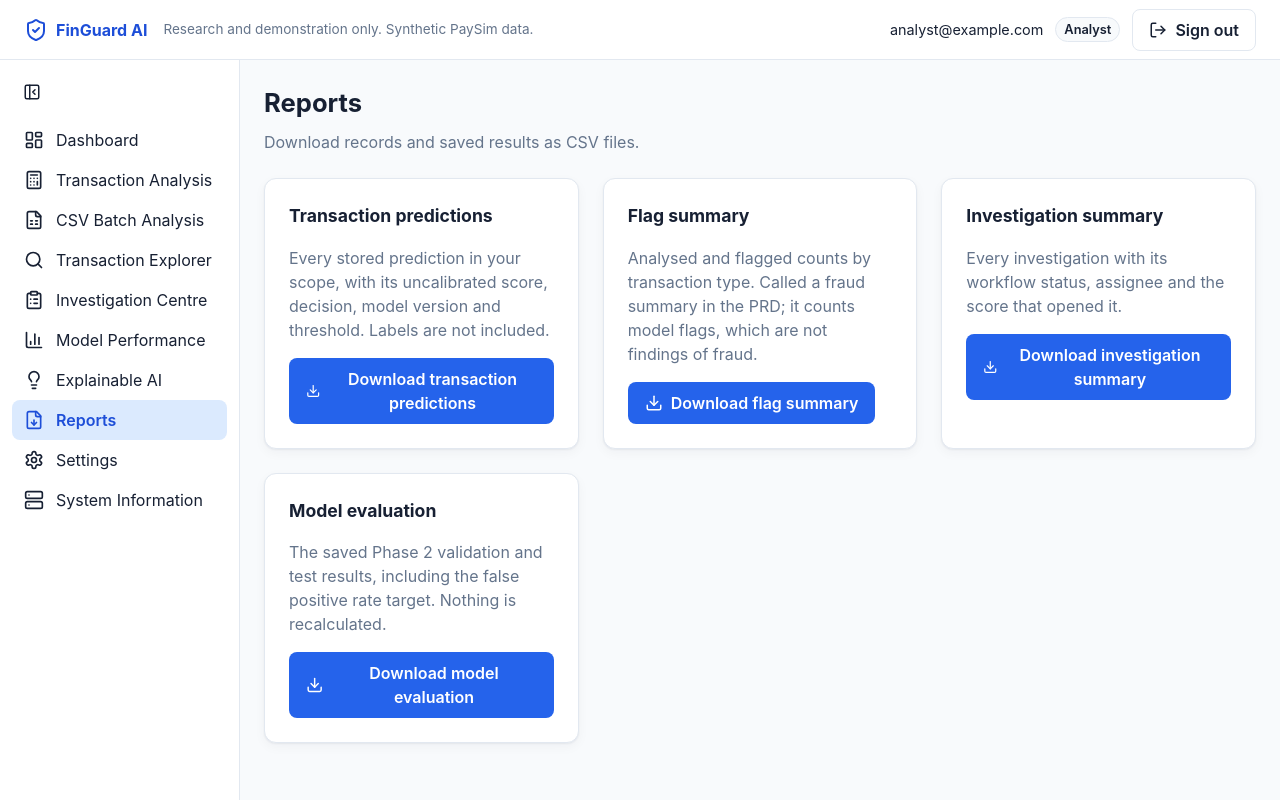
Reports › shows an error when a download fails
What coordinates should you click on to do the following:
click the button "Download model evaluation"
I would click on:
 (421, 685)
Its box is [289,652,554,718].
(page scrolled)
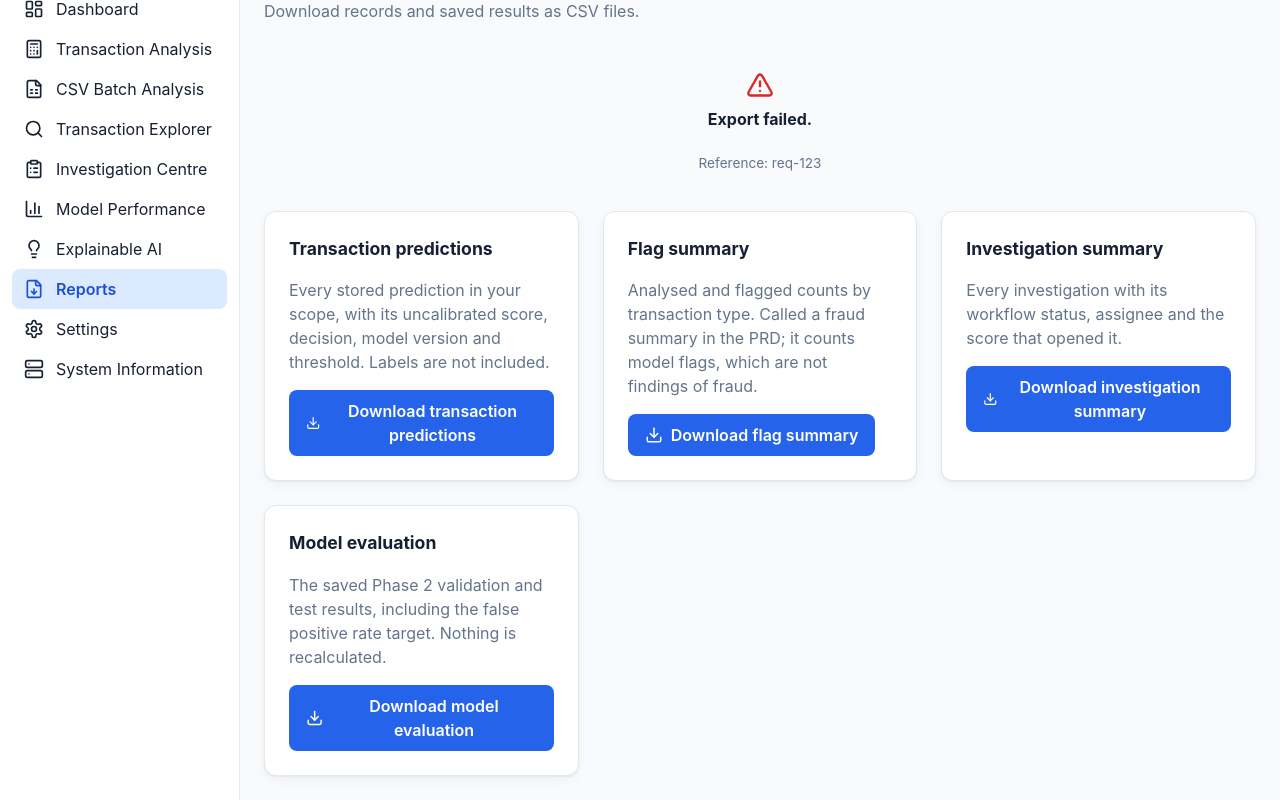
expect the button "Download model evaluation" is enabled: met, box [289,685,554,751]
expect the text "Export failed." is shown: met, box [708,107,812,131]
expect the text "Reference: req-123" is shown: met, box [698,153,821,173]
